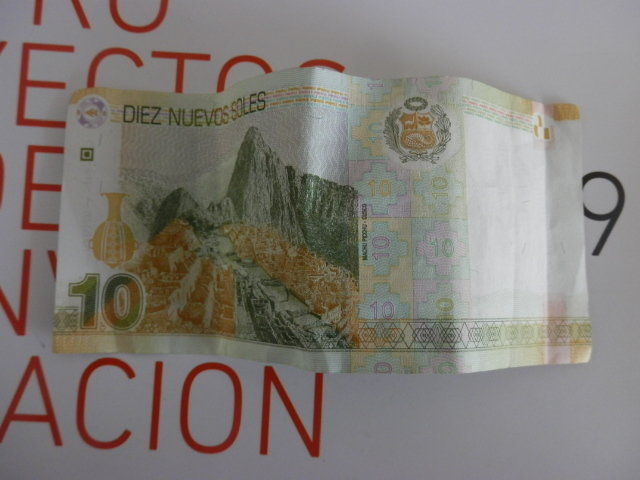B10: (58, 86, 592, 369)
